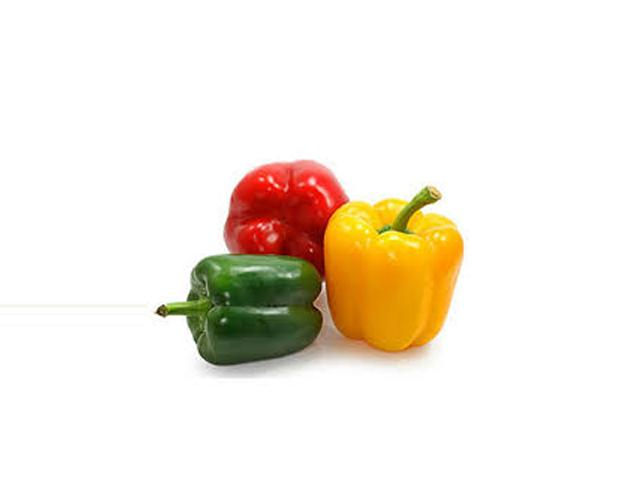bell_pepper: (168, 237, 350, 365)
